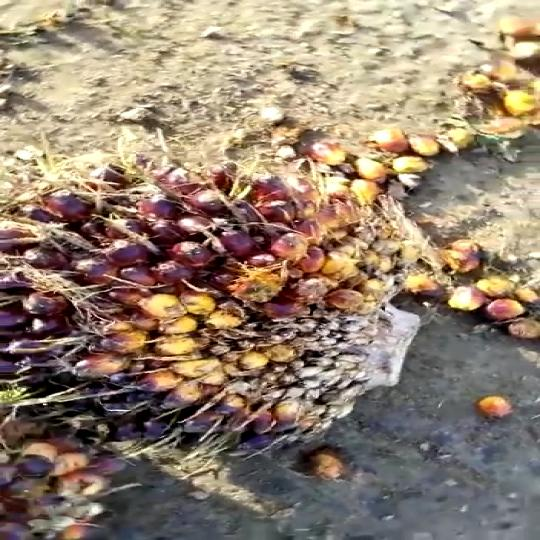mentah: (1, 146, 395, 462)
